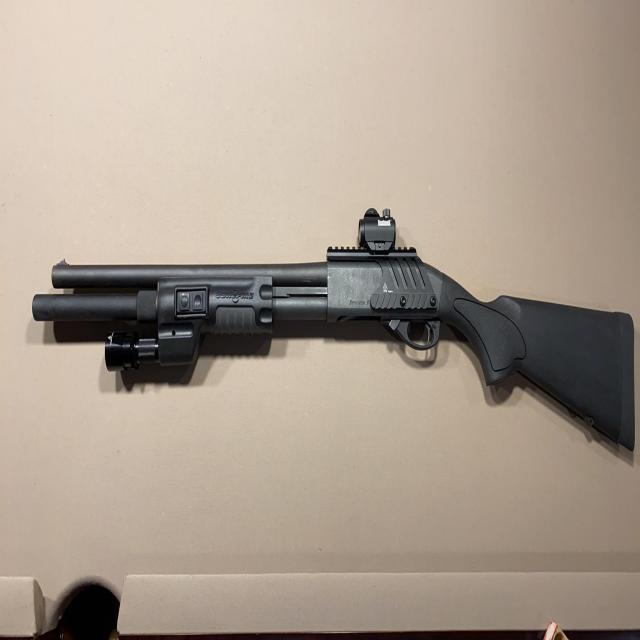shotgun: (31, 227, 640, 474)
